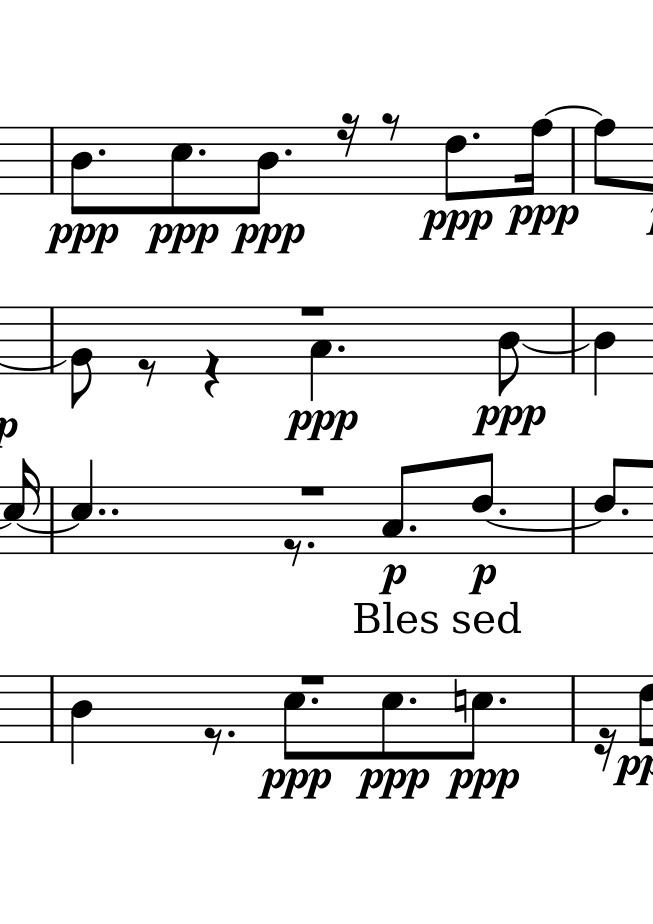16_5: (2, 457, 42, 555)
16_8: (516, 116, 556, 197)
4_4: (68, 673, 93, 762), (592, 304, 615, 400)
4_6: (67, 457, 96, 559)
8_2: (70, 303, 94, 410)
8_3: (382, 461, 416, 557)
8_4: (243, 123, 282, 216), (496, 301, 525, 396), (70, 124, 93, 216)
8_5: (462, 674, 496, 762), (167, 125, 195, 214), (378, 674, 405, 762), (280, 672, 304, 762)
8_6: (593, 455, 626, 554), (471, 452, 496, 557), (443, 123, 467, 203)
8_8: (593, 118, 622, 195)
Double_dot: (94, 506, 119, 519)
Natural: (454, 677, 468, 724)
Rests1: (297, 483, 326, 499), (300, 670, 327, 687), (300, 302, 326, 319)
Rests16: (337, 111, 361, 161), (594, 722, 619, 770)
Rests4: (203, 348, 220, 401)
Rests8: (380, 110, 401, 142), (284, 535, 305, 566), (201, 725, 223, 754), (137, 358, 158, 388)
Single_barline: (42, 675, 61, 743), (565, 306, 583, 370), (43, 305, 60, 371), (565, 488, 582, 552), (565, 676, 581, 743), (44, 126, 60, 193), (566, 128, 582, 193), (44, 487, 59, 552)
Slur: (487, 523, 599, 532), (548, 104, 603, 119), (520, 343, 591, 354), (15, 522, 78, 534)
dot: (495, 693, 510, 708), (95, 145, 108, 160), (195, 145, 208, 160), (334, 342, 348, 355), (308, 694, 319, 710), (407, 693, 418, 708), (470, 129, 481, 144), (407, 522, 418, 535), (305, 540, 316, 553), (498, 505, 509, 517), (227, 728, 238, 740)
p: (377, 560, 408, 595), (465, 561, 495, 596)
ppp: (231, 220, 305, 259), (282, 406, 360, 443), (44, 220, 120, 257), (143, 219, 217, 256), (503, 201, 577, 238), (448, 765, 522, 802), (418, 206, 490, 244), (355, 767, 431, 803), (255, 765, 328, 802), (471, 403, 547, 436)
